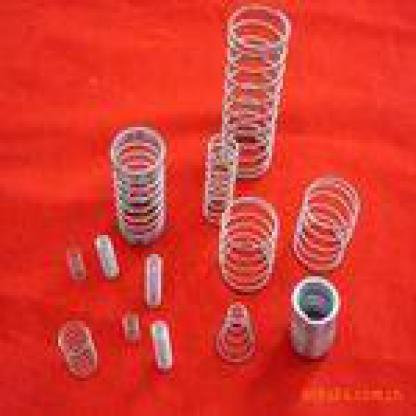FOD: (219, 5, 291, 179), (108, 122, 169, 246), (292, 173, 364, 272), (216, 195, 280, 294), (202, 134, 238, 226), (213, 299, 258, 365), (55, 321, 100, 381), (150, 318, 174, 375), (121, 314, 140, 343)
